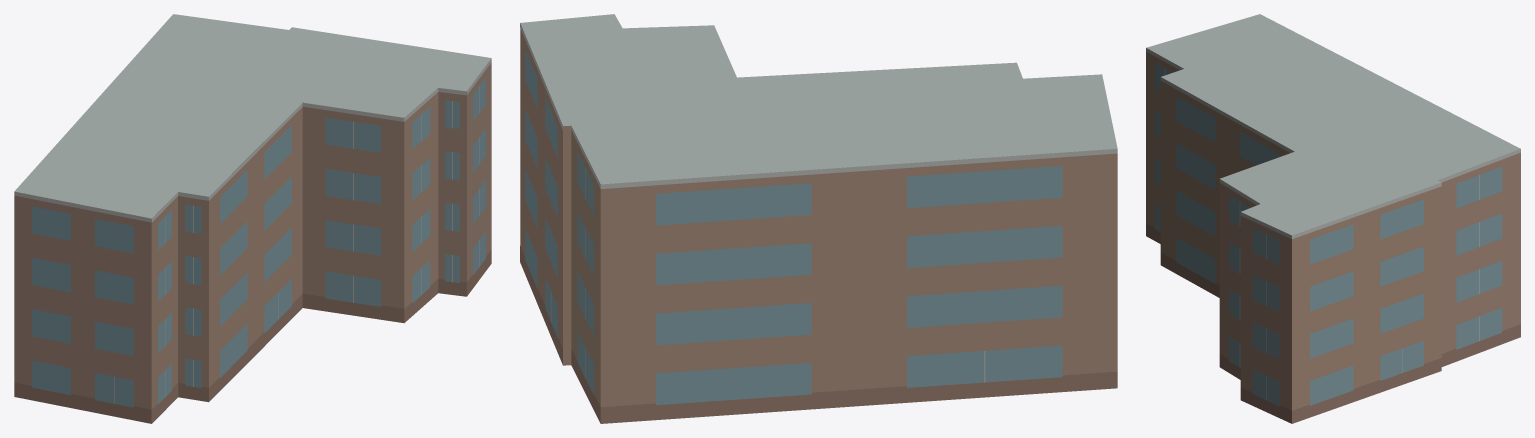
Rendered from survey-upis-32942596.glb.
3 renders of one model, left to right at view 1: azimuth 30°, elevation 25°; view 2: azimuth 150°, elevation 25°; view 3: azimuth 270°, elevation 25°, orthographic. The views are drawn at different scales.
Visible parts, largest first — view 1: survey-upis-32942596.tmp; view 2: survey-upis-32942596.tmp; view 3: survey-upis-32942596.tmp.
Boxes of the visible parts, x1=… form: survey-upis-32942596.tmp: x1=14, y1=14, x2=491, y2=423; survey-upis-32942596.tmp: x1=520, y1=14, x2=1117, y2=423; survey-upis-32942596.tmp: x1=1146, y1=14, x2=1520, y2=423.
Size of the model in its own units: 31.28 by 12.4 by 22.36.
